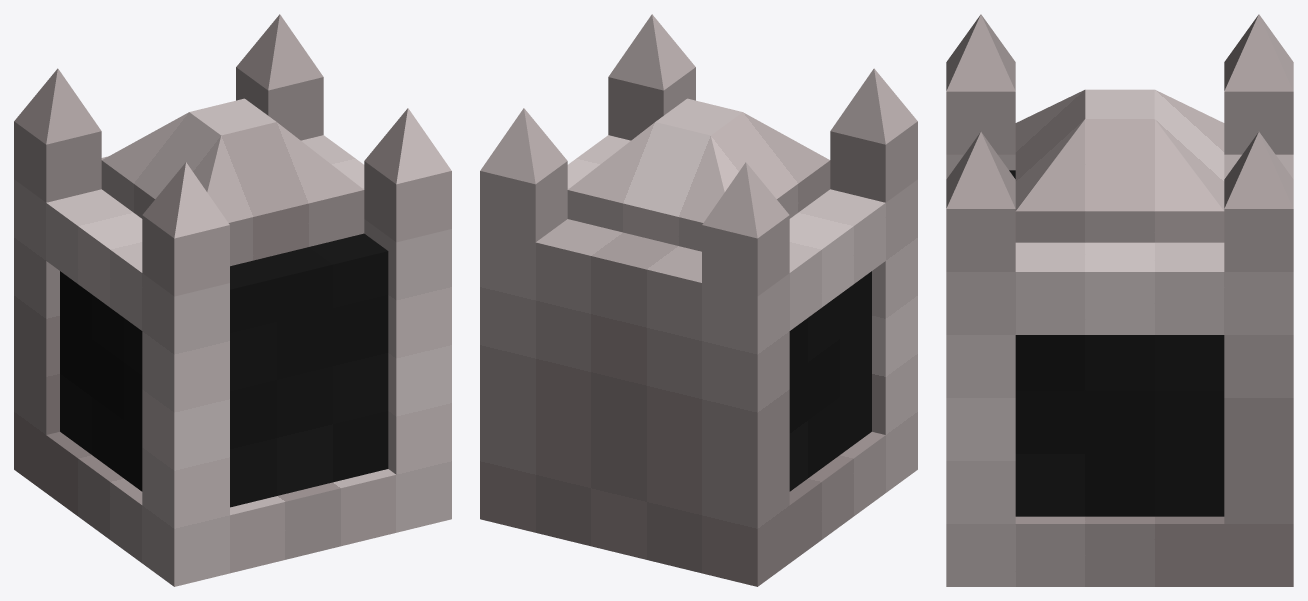
The model's file is head_smart.obj.
3 renders of one model, left to right at view 1: azimuth 30°, elevation 25°; view 2: azimuth 150°, elevation 25°; view 3: azimuth 270°, elevation 25°, orthographic. The views are drawn at different scales.
Parts seen in each view (by area): view 1: HEAD_SMART_IRON_Cube.169; view 2: HEAD_SMART_IRON_Cube.169; view 3: HEAD_SMART_IRON_Cube.169.
Part boxes in pixels (box(x1,y1,x2,y2)): HEAD_SMART_IRON_Cube.169: box(14, 14, 451, 586); HEAD_SMART_IRON_Cube.169: box(480, 14, 917, 586); HEAD_SMART_IRON_Cube.169: box(946, 14, 1293, 586).
Bounding box in the file's own units: 0.3125 × 0.4375 × 0.3125.
